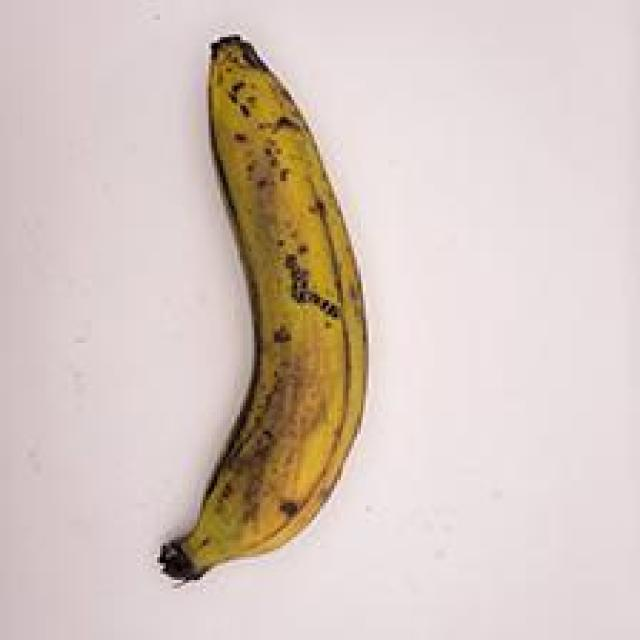Overripe: (117, 17, 387, 598)
